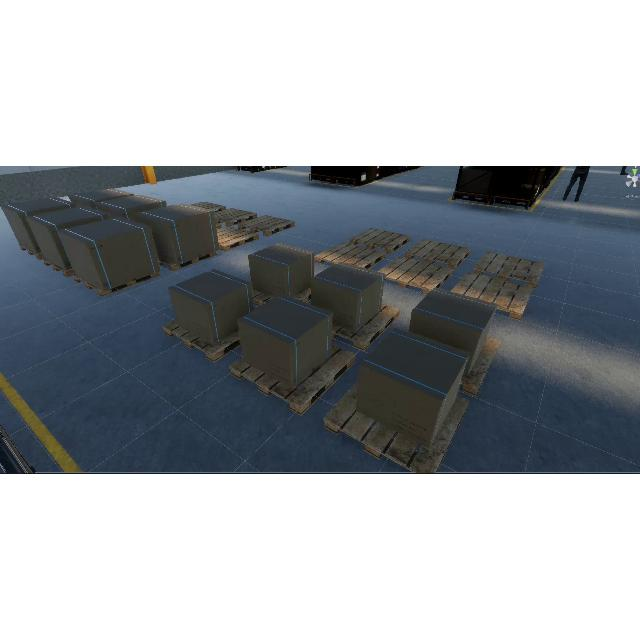wooden_pallet: (322, 376, 470, 474), (229, 341, 358, 417), (450, 272, 534, 320), (161, 317, 243, 364), (331, 301, 401, 350), (378, 255, 453, 294), (473, 251, 546, 290), (72, 272, 161, 297), (405, 238, 471, 270), (314, 242, 387, 270), (348, 227, 412, 255), (158, 250, 220, 273), (238, 214, 296, 236), (215, 226, 260, 251), (214, 206, 258, 227), (190, 200, 226, 214)
